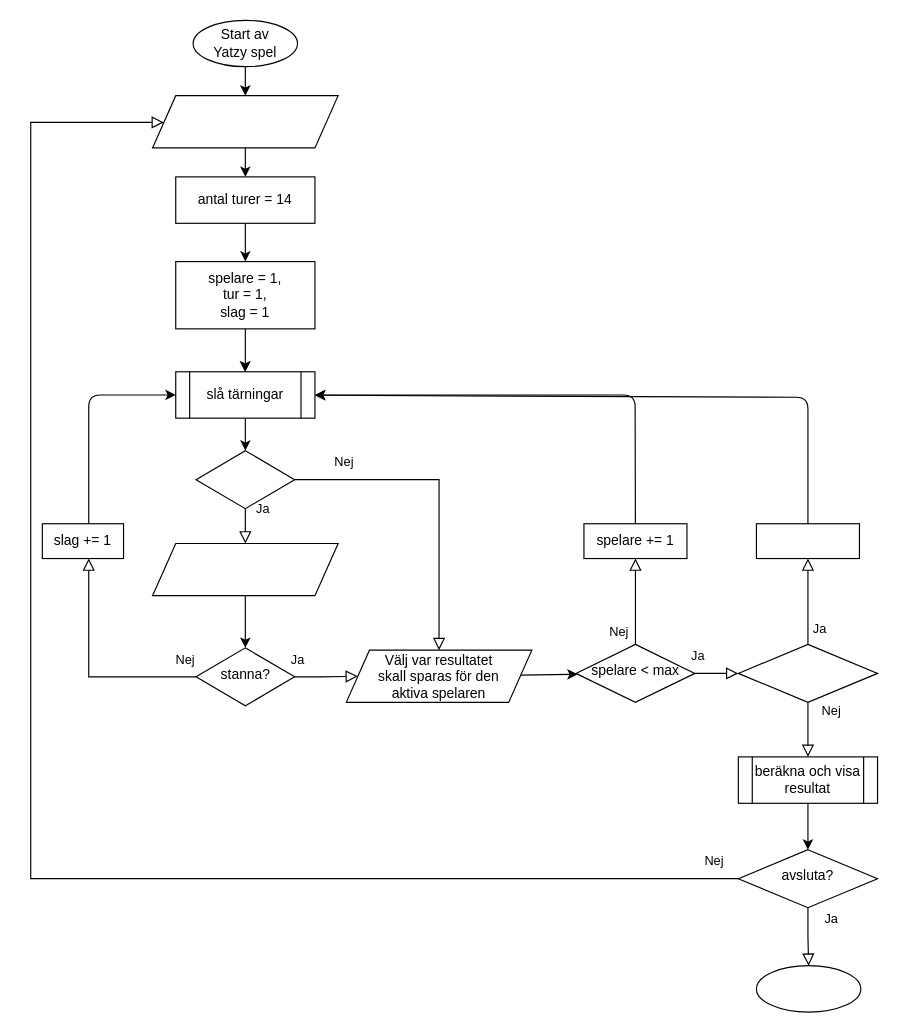
The diagram is 898 pixels wide and 1032 high, and some of its shapes have lost their labels. The shapes that lost their labels are listed below. From the top down, each one's centre as x and y in pixels, then its label:
the point at 244,121: Välj antal spelare
the point at 245,479: slag < 3
the point at 807,541: tur += 1
the point at 244,569: Välj de tärningar som skall sparas
the point at 807,672: antal turer < max
the point at 808,988: Avsluta spelet
